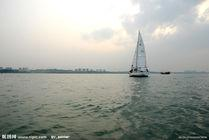fanchuan: (124, 28, 155, 78)
